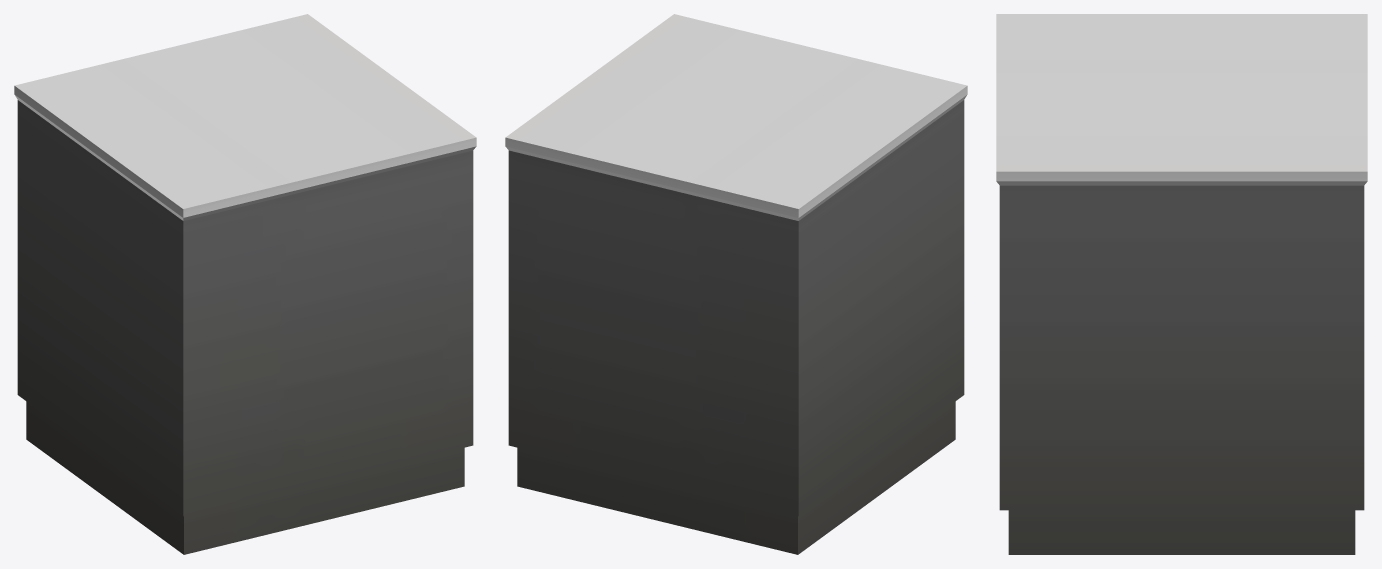
Rendered from kitchen_wall_mora.glb.
The picture shows the model from 3 angles, left to right: view 1: azimuth 30°, elevation 25°; view 2: azimuth 150°, elevation 25°; view 3: azimuth 270°, elevation 25°; orthographic projection. The views are drawn at different scales.
Visible parts, largest first — view 1: MSH_Cupboar_Small_MTA_Kitchen_0; view 2: MSH_Cupboar_Small_MTA_Kitchen_0; view 3: MSH_Cupboar_Small_MTA_Kitchen_0.
Part boxes in pixels (bbox=[...]): MSH_Cupboar_Small_MTA_Kitchen_0: bbox=[14, 14, 476, 554]; MSH_Cupboar_Small_MTA_Kitchen_0: bbox=[505, 14, 967, 554]; MSH_Cupboar_Small_MTA_Kitchen_0: bbox=[996, 14, 1367, 554].
Size of the model in its own units: 104 by 119 by 104.
1 material, 1 textured.
